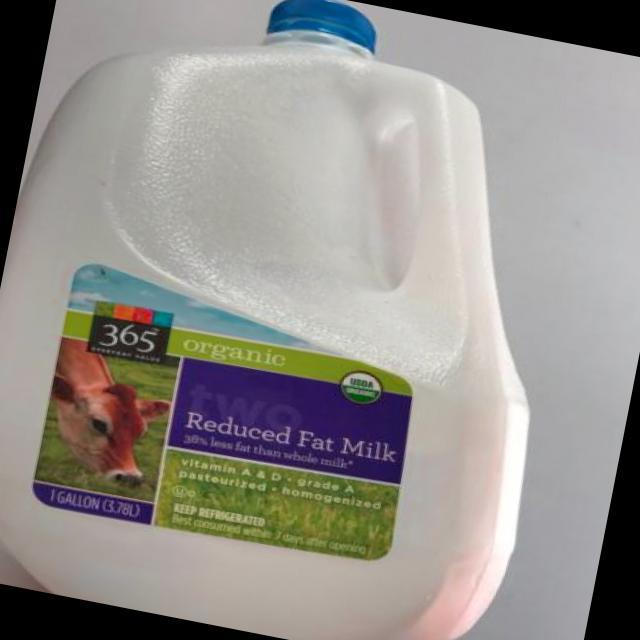HDPE Plastic: (1, 0, 534, 638)
